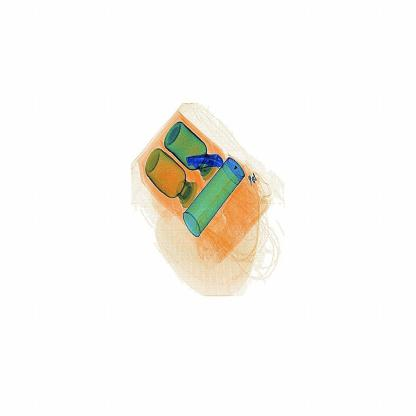knife: (182, 145, 236, 180)
